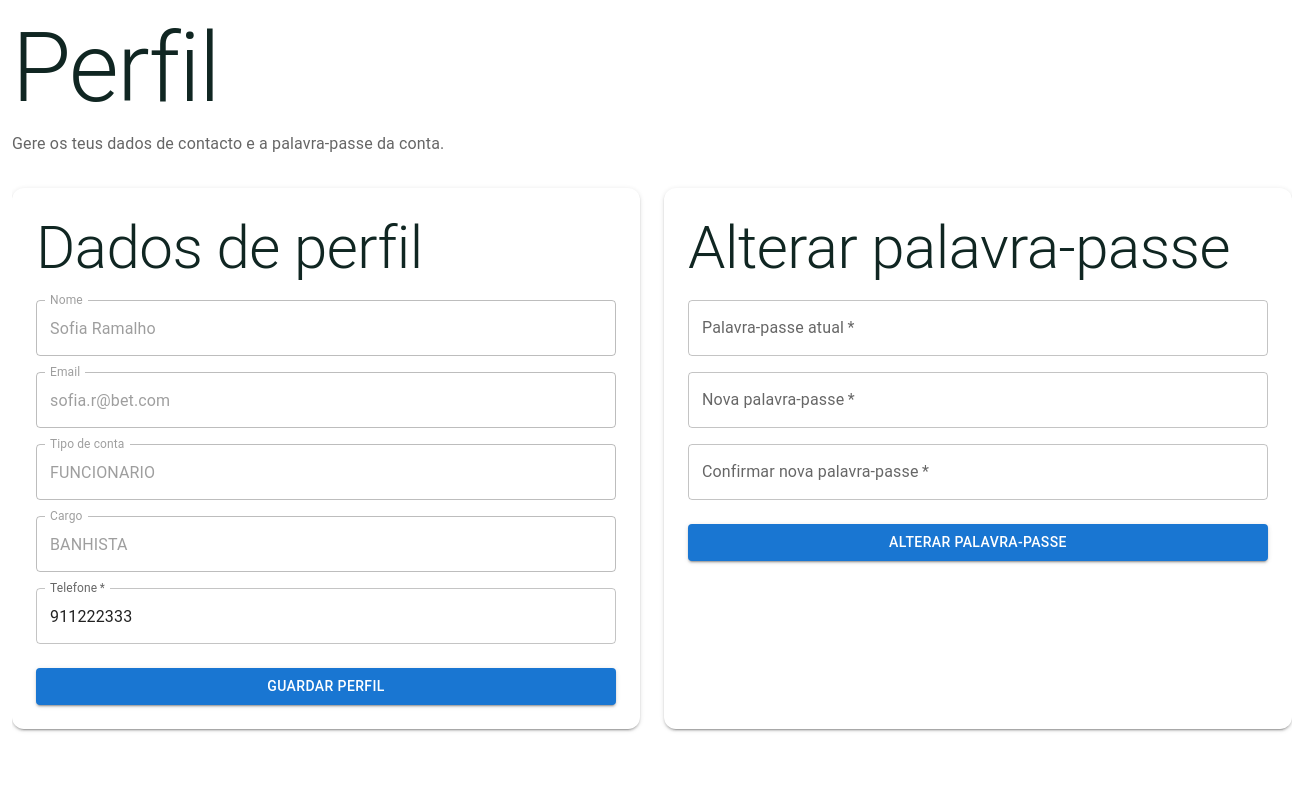
Scenario: Perfil page › guarda telefone do perfil
Replace the text in the field labelled "Telefone *" with "919999999" at coordinates (326, 616), box [36, 588, 616, 644]
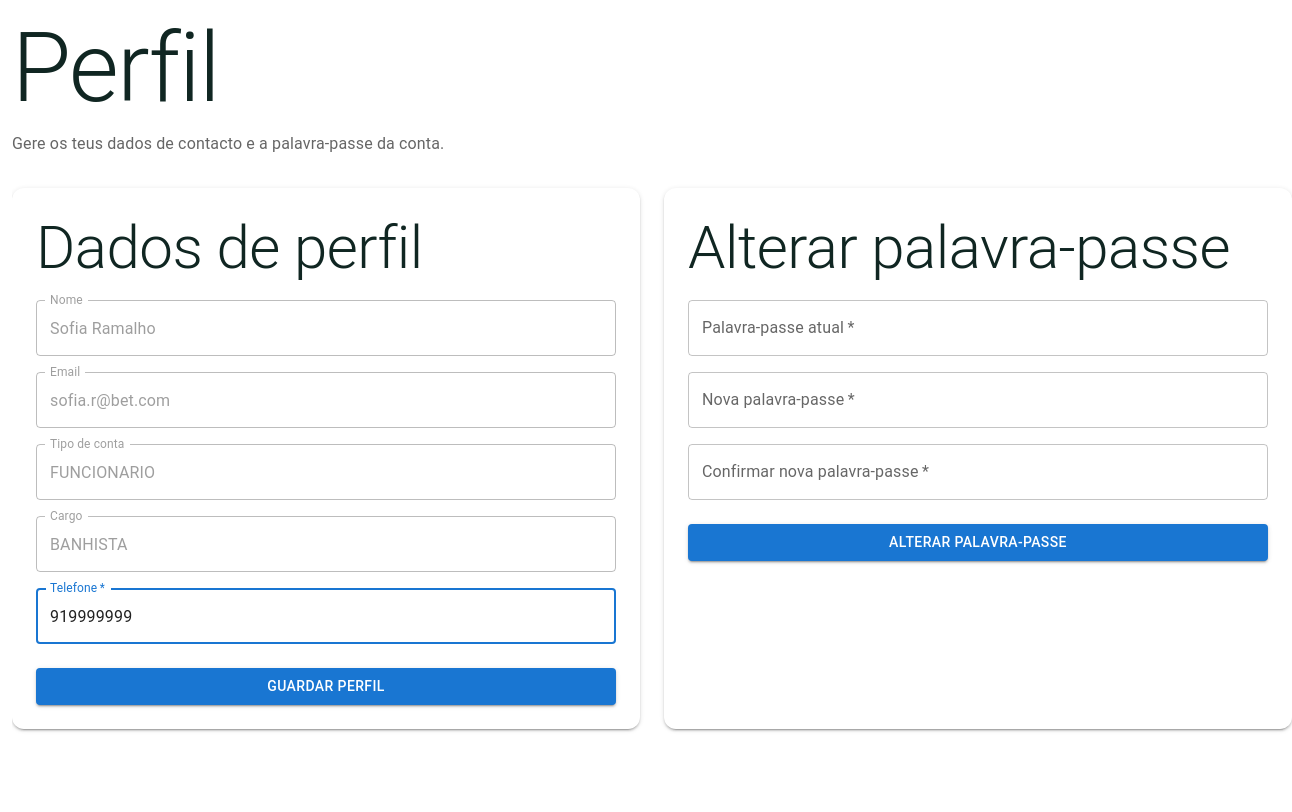
Click the button "Guardar perfil" at coordinates (326, 686), box [36, 668, 616, 704]
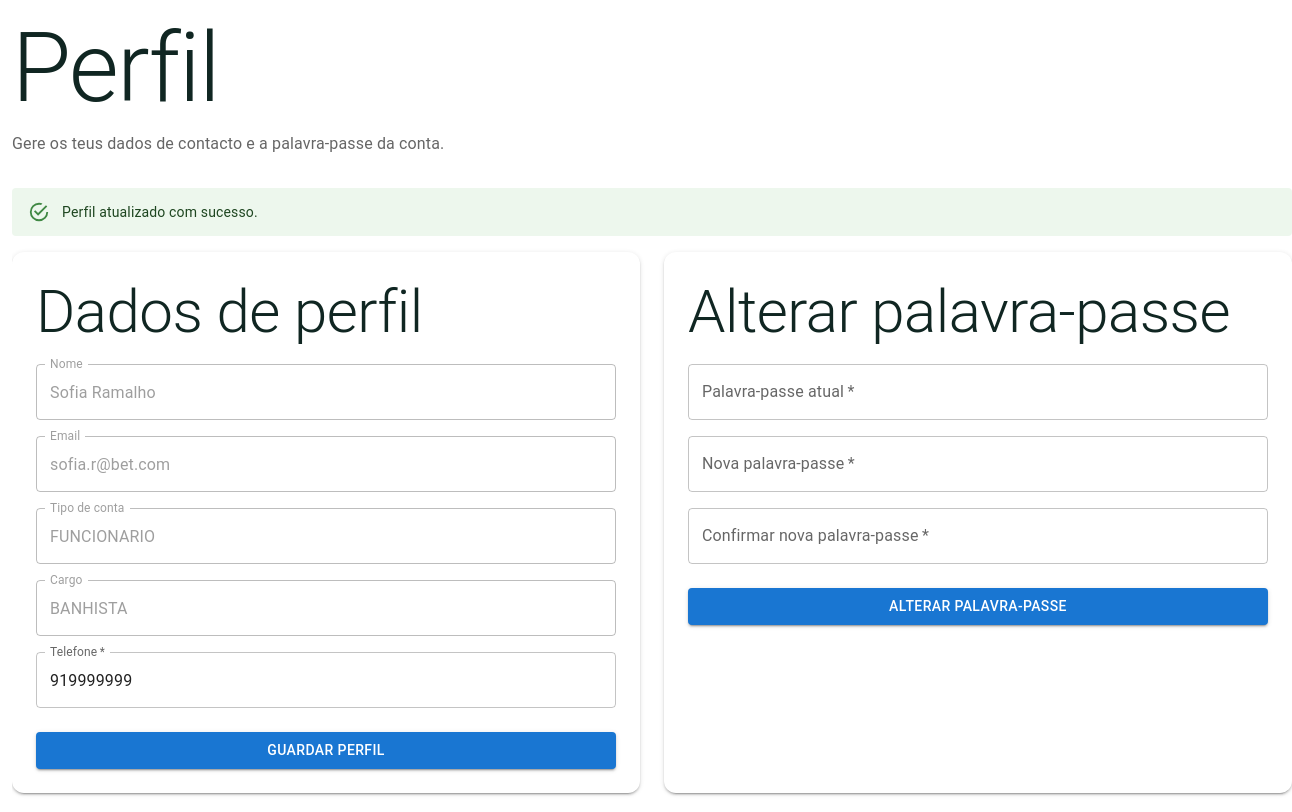
Now the text "Perfil atualizado com sucesso." is shown, box [62, 204, 258, 220]
